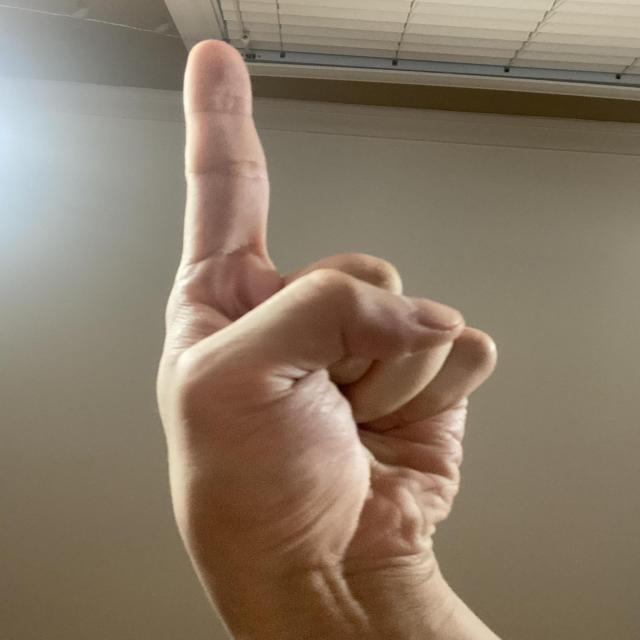Z: (149, 32, 508, 590)
